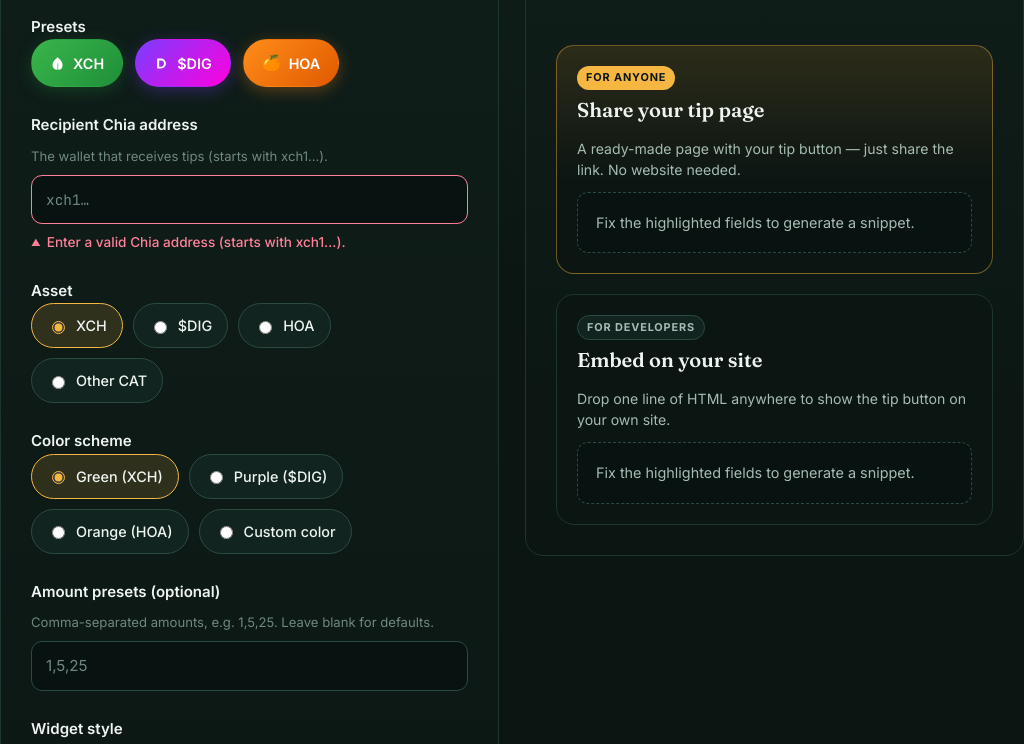
Test case: BuilderPanel › reveals the CAT id field when the Other CAT asset is chosen
(page scrolled)
Click the radio button with test id "asset-cat" at (58, 382), box [52, 376, 65, 389]
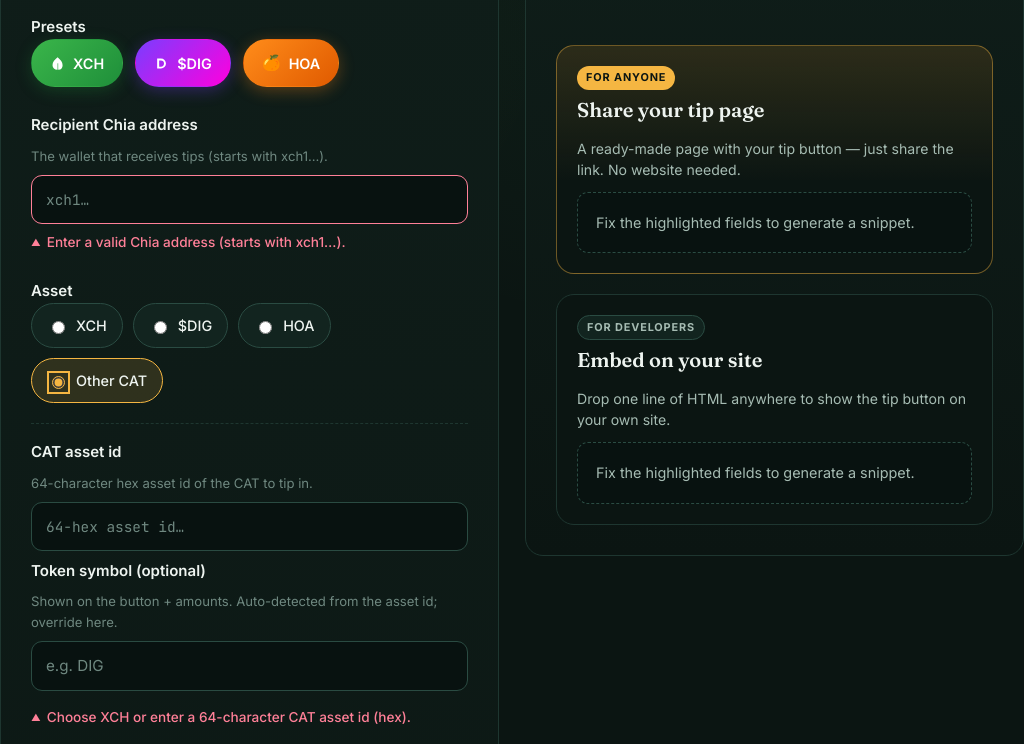
Expected: the field with test id "input-catid" is shown, [31, 502, 468, 550]
